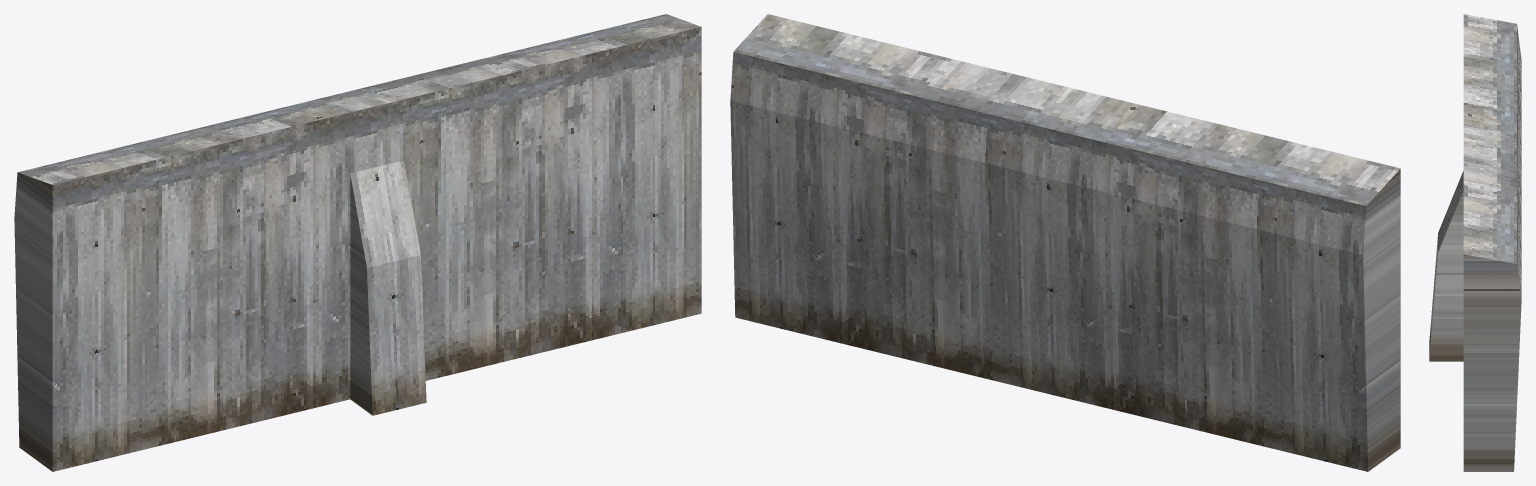
The model's file is ledge.glb.
3 renders of one model, left to right at view 1: azimuth 30°, elevation 25°; view 2: azimuth 150°, elevation 25°; view 3: azimuth 270°, elevation 25°, orthographic. The views are drawn at different scales.
Visible parts, largest first — view 1: ledge; view 2: ledge; view 3: ledge.
Boxes of the visible parts, bbox=[...] form: ledge: bbox=[14, 14, 701, 471]; ledge: bbox=[730, 14, 1400, 471]; ledge: bbox=[1429, 14, 1521, 471].
Size of the model in its own units: 5.09 by 2.15 by 0.8256.
1 material, 1 textured.
